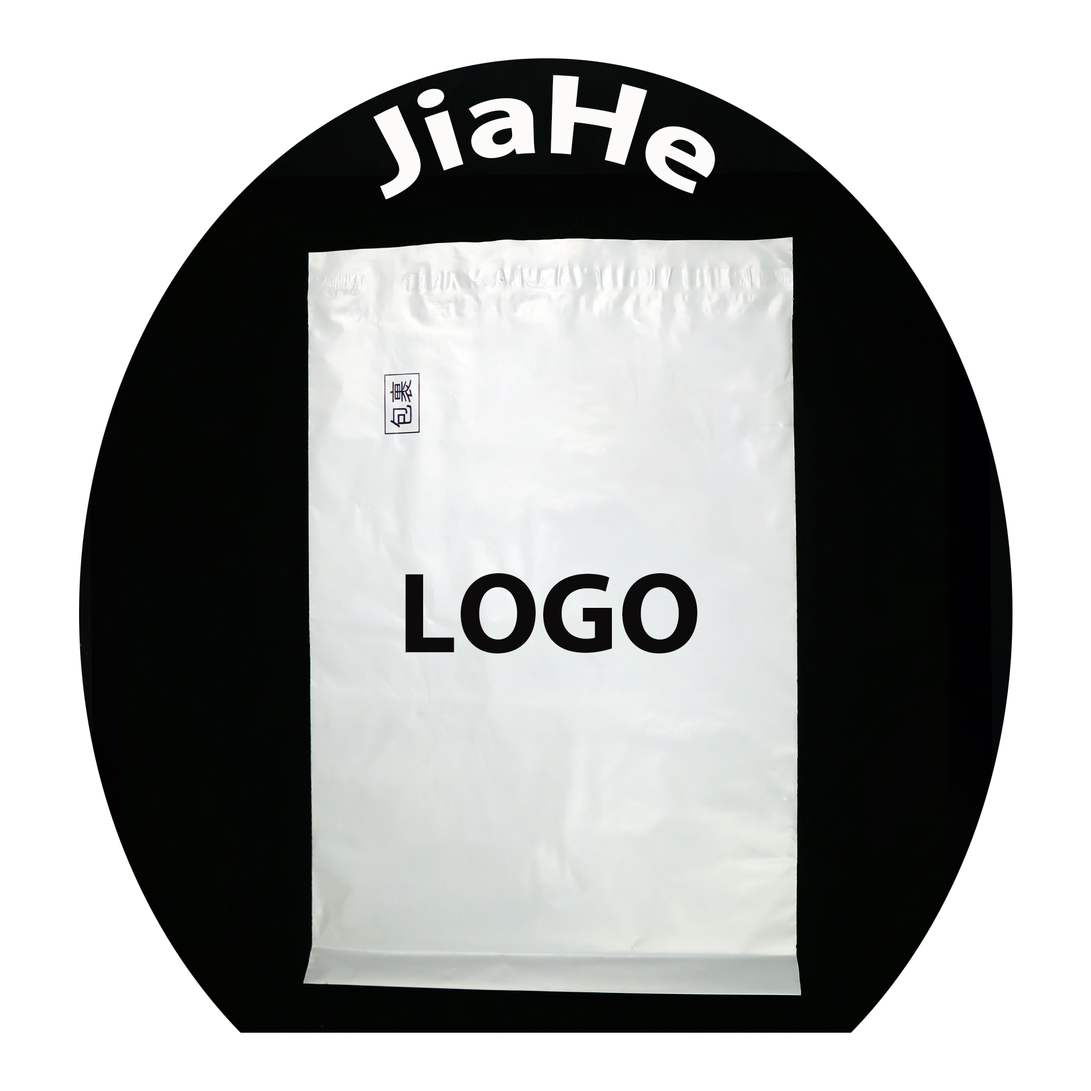塑料袋: (307, 240, 799, 994)
